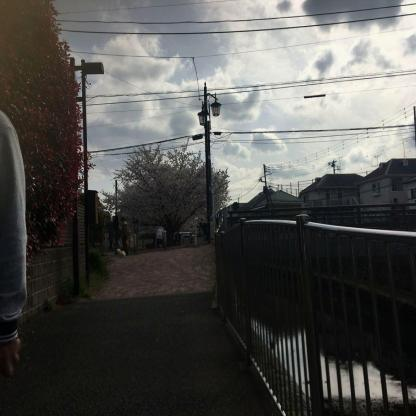Someiyoshino: (99, 138, 236, 238)
